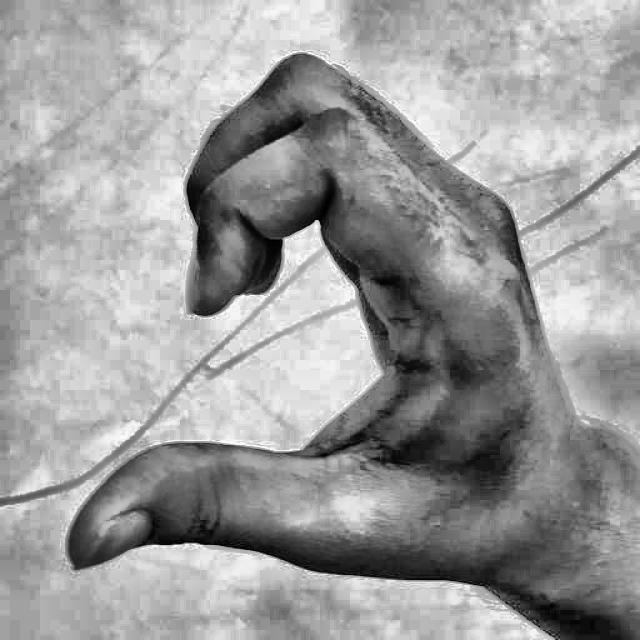Kha: (42, 27, 598, 616)
